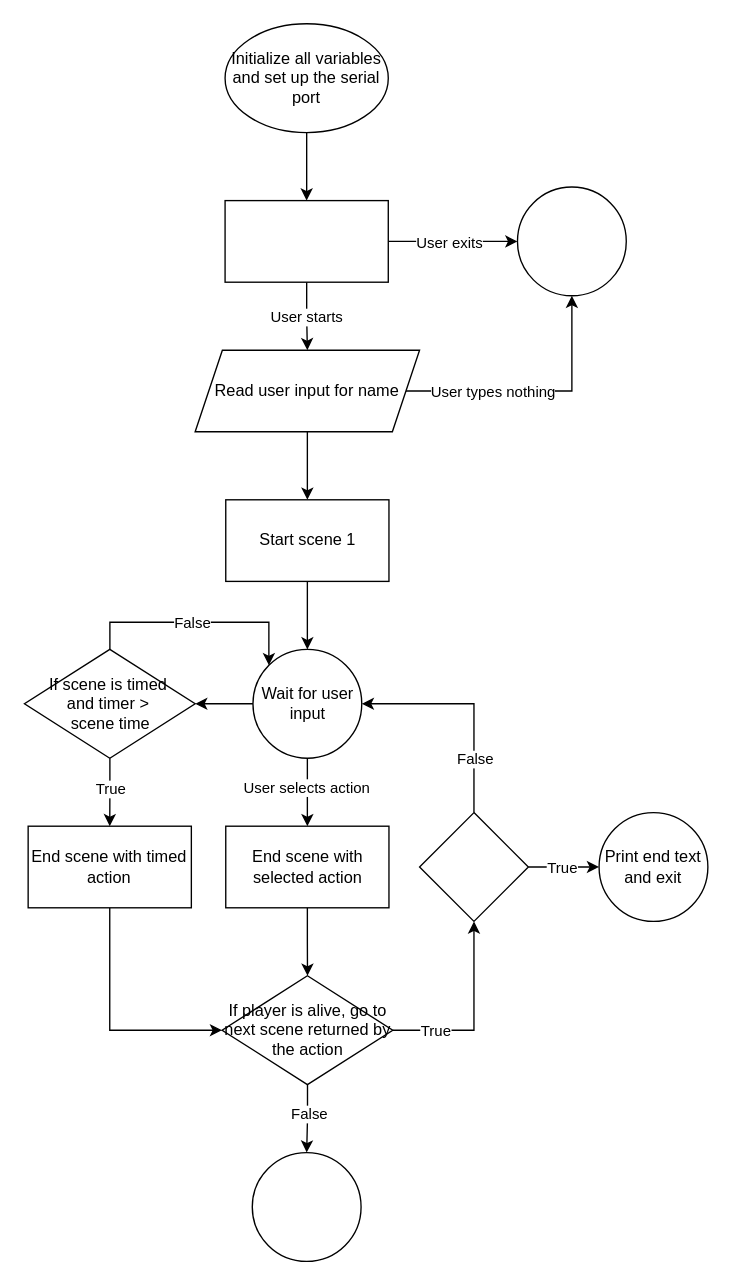
Some shapes in this 732 by 1285 pixel diagram are drawn without their labels. The shapes that lost their labels are listed below. From the top down, each one's centre as x and y in pixels, then its label:
At point 306,240: "Print landing screen text".
At point 571,241: "Print error text and exit".
At point 473,866: "if scene is marked as an end".
At point 306,1206: "Print death text and exit".
